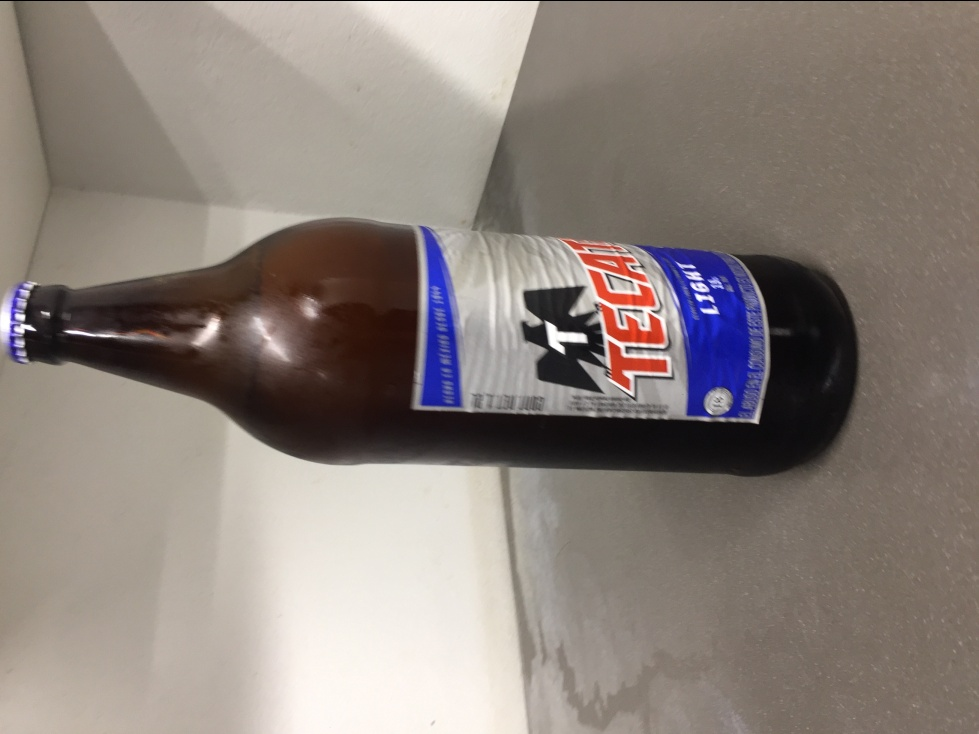tecateC: (0, 225, 863, 478)
